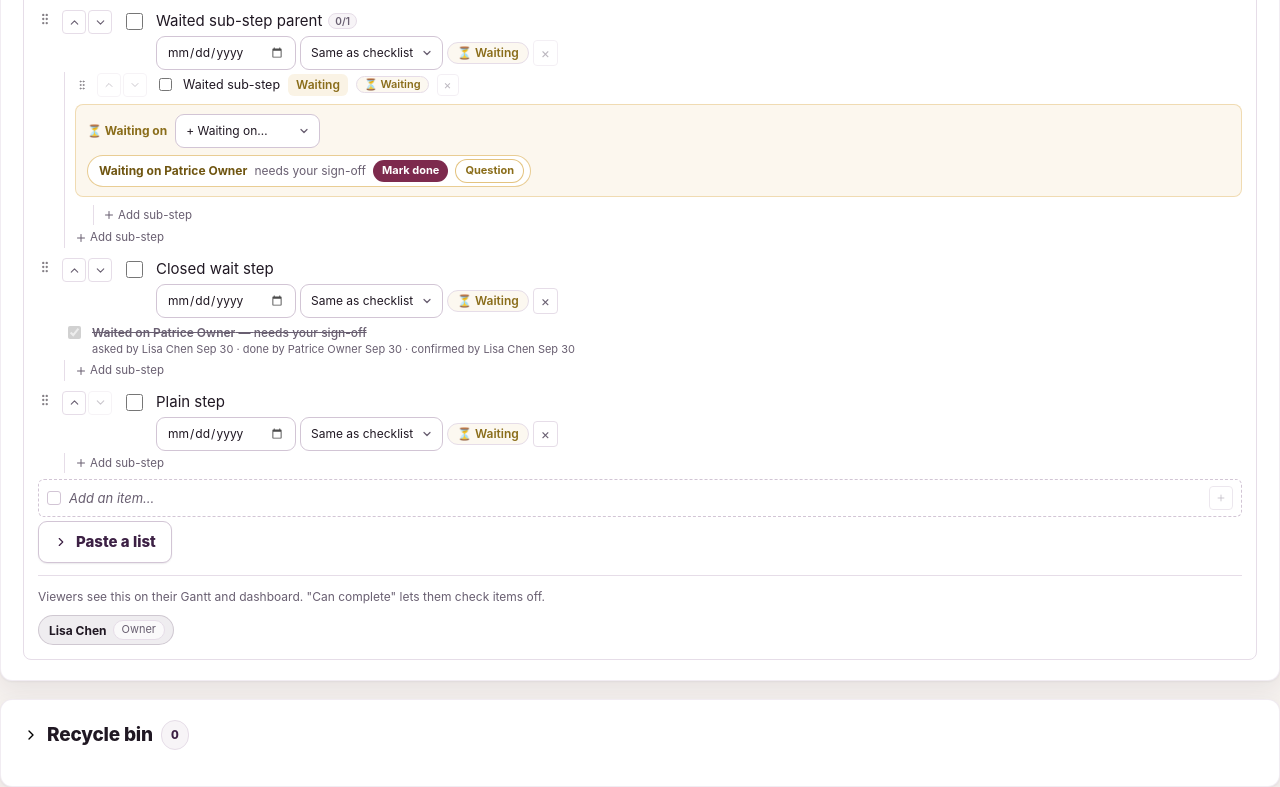
Test case: the server refuses anyway (a wait added from another tab) › a one-off checklist (plain confirm) shows the sentence under its steps, with no alert
This screenshot has width=1280, height=787.
(page scrolled)
What coordinates should you click on to do the following:
click the button named "Delete item"
I would click on:
 (545, 434)
Its box is 533,421 -> 558,447.
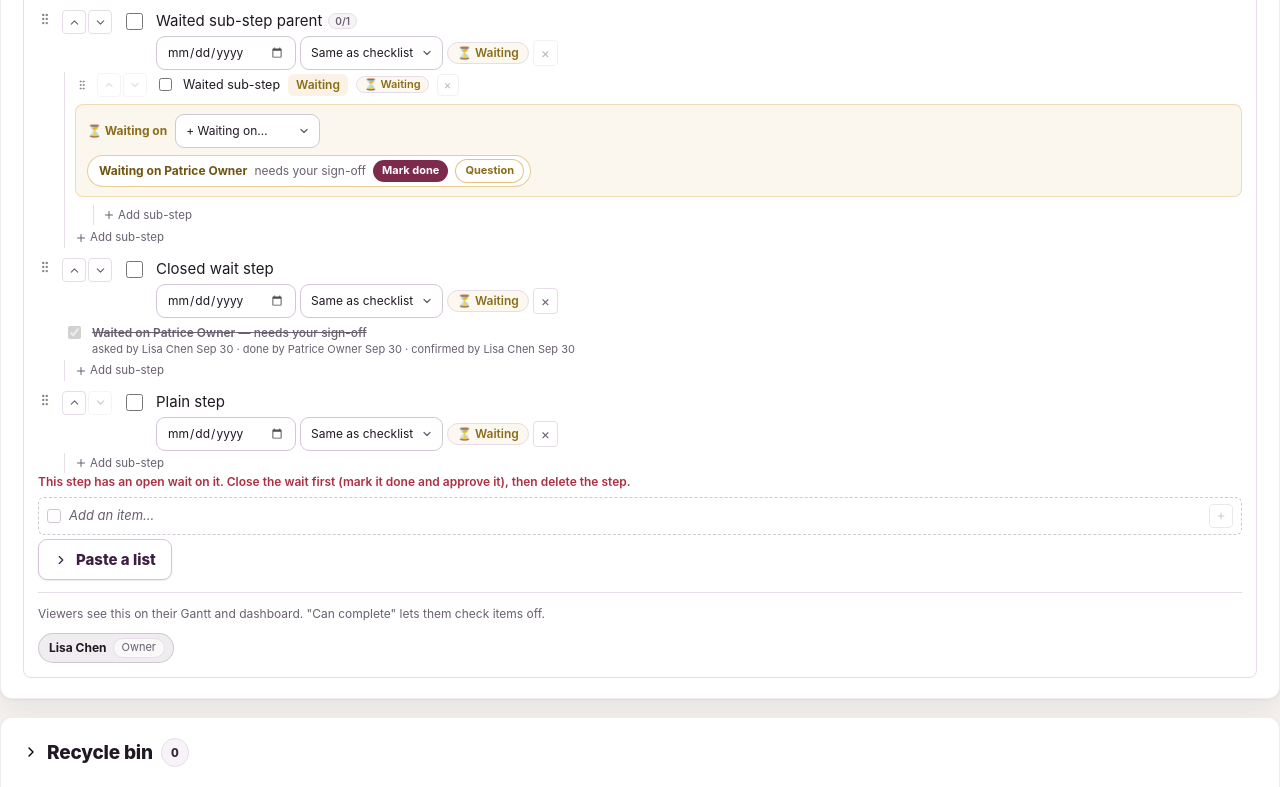
expect the message shows "This step has an open wait on it. Close the wait first (mark it done and approve it), then delete the step.": met, box 38,474 -> 631,489
